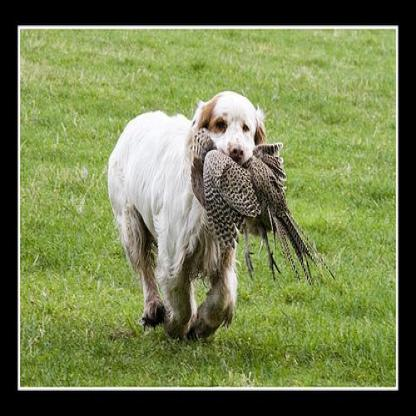clumber: (105, 82, 270, 341)
